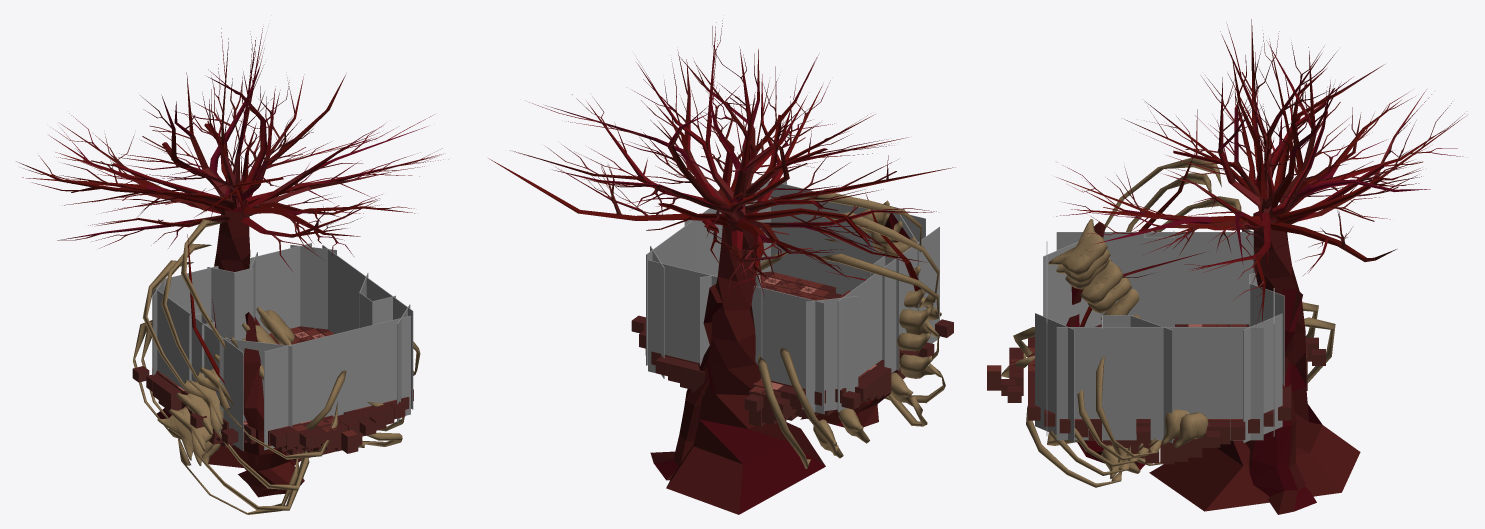
The model's file is stage04.FBX.
The picture shows the model from 3 angles, left to right: view 1: azimuth 30°, elevation 25°; view 2: azimuth 150°, elevation 25°; view 3: azimuth 270°, elevation 25°; orthographic projection. The views are drawn at different scales.
Visible parts, largest first — view 1: Object026, Box004, Object221, Object001, Box006, Box005, Object226, Box003, Object180, Box008, Box016, Box014 (+2 smaller); view 2: Object026, Object180, Object221, Box005, Object001, Box004, Box006, Box010, Box003, Object226, Box011, Box015; view 3: Object026, Box003, Object180, Box006, Object221, Object001, Object214, Box007, Box008, Box017, Box009, Object226 (+2 smaller).
Part boxes in pixels (left/top/right/bottom): Object026: left=16, top=26, right=448, bottom=271; Box004: left=264, top=315, right=410, bottom=450; Object221: left=133, top=219, right=346, bottom=514; Object001: left=132, top=326, right=413, bottom=461; Box006: left=152, top=289, right=243, bottom=450; Box005: left=156, top=243, right=311, bottom=333; Object226: left=187, top=234, right=304, bottom=497; Box003: left=322, top=245, right=413, bottom=409; Object180: left=157, top=204, right=300, bottom=467; Box008: left=290, top=245, right=336, bottom=329; Box016: left=207, top=267, right=234, bottom=338; Box014: left=234, top=268, right=253, bottom=339; Object026: left=488, top=20, right=954, bottom=301; Object180: left=650, top=218, right=825, bottom=514; Object221: left=757, top=193, right=945, bottom=468; Box005: left=648, top=260, right=824, bottom=413; Object001: left=631, top=271, right=953, bottom=426; Box004: left=769, top=180, right=925, bottom=295; Box006: left=837, top=226, right=939, bottom=412; Box010: left=805, top=296, right=858, bottom=412; Box003: left=646, top=208, right=721, bottom=365; Object226: left=800, top=194, right=920, bottom=427; Box011: left=684, top=220, right=722, bottom=275; Box015: left=699, top=274, right=717, bottom=366; Object026: left=1056, top=19, right=1465, bottom=323; Box003: left=1056, top=327, right=1263, bottom=440; Object180: left=1149, top=210, right=1360, bottom=514; Box006: left=1056, top=232, right=1253, bottom=326; Object221: left=1001, top=157, right=1335, bottom=445; Object001: left=987, top=324, right=1325, bottom=464; Object214: left=1026, top=355, right=1208, bottom=487; Box007: left=1035, top=313, right=1074, bottom=442; Box008: left=1243, top=313, right=1282, bottom=442; Box017: left=1144, top=237, right=1174, bottom=326; Box009: left=1043, top=241, right=1101, bottom=326; Object226: left=1066, top=152, right=1205, bottom=469.
Bounding box in the file's own units: 88.35 × 84.4 × 80.17.
11 materials, 10 textured.
